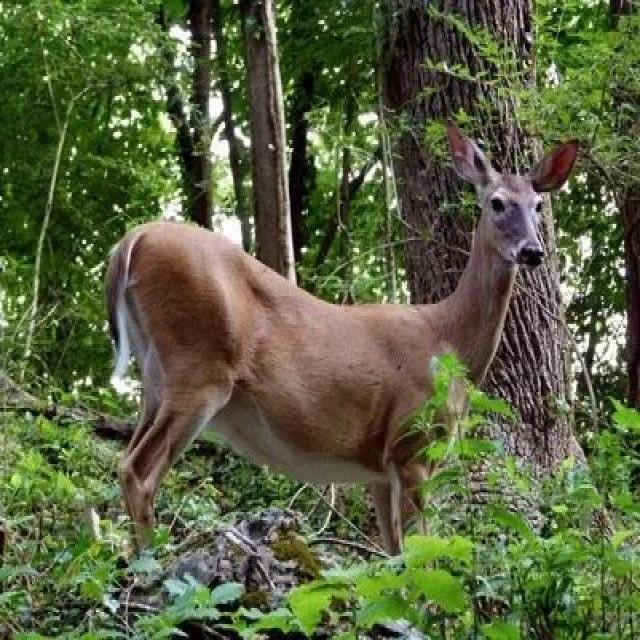deer: (128, 169, 640, 567)
